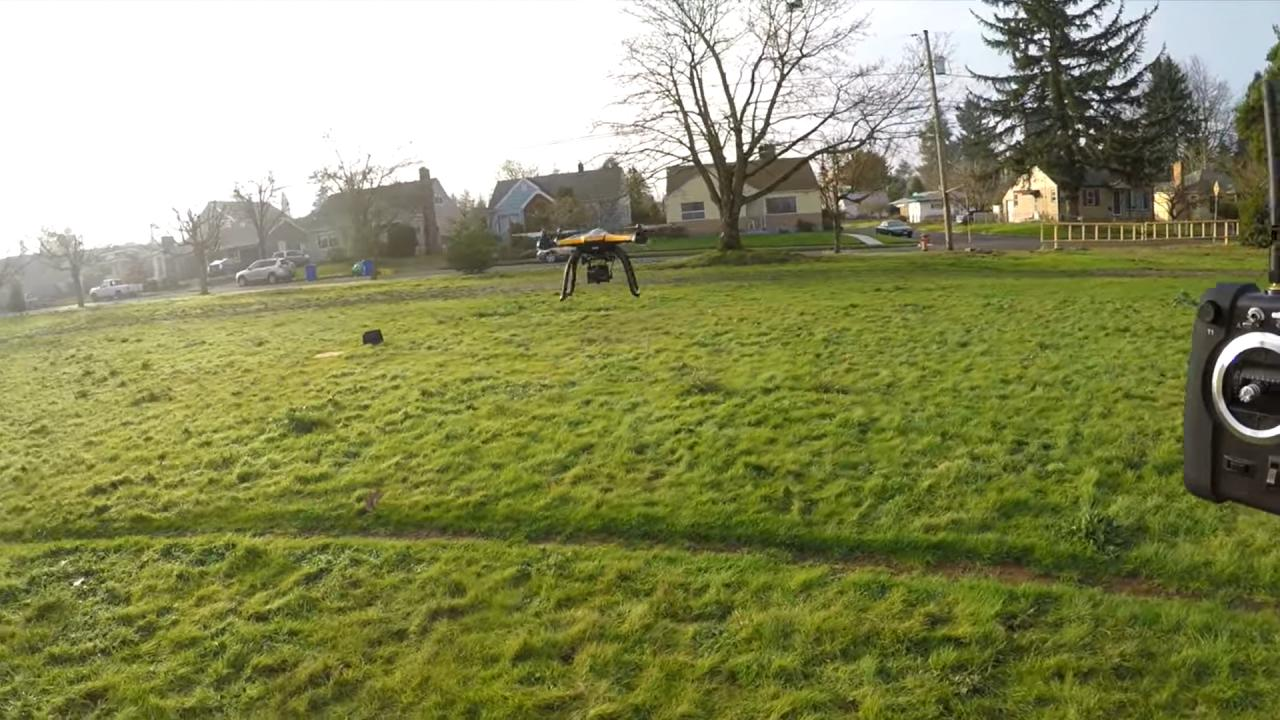Drone: (501, 203, 682, 320)
